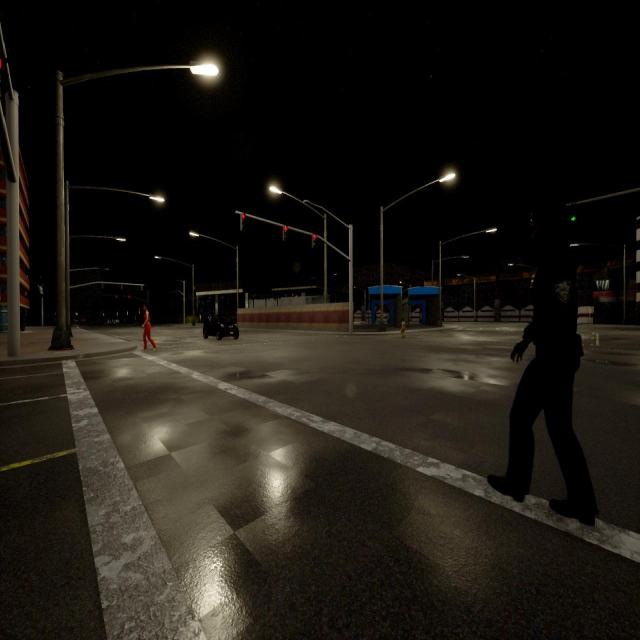Pedestrian: (487, 210, 597, 526), (142, 302, 156, 352), (400, 318, 406, 337)
Traffic_Signs: (588, 308, 592, 313)
Vehicle: (204, 313, 238, 340)
traffic_light: (240, 214, 246, 230), (571, 205, 577, 221), (283, 224, 288, 240), (312, 234, 316, 248), (0, 44, 2, 71), (101, 284, 104, 288), (141, 285, 143, 291), (121, 284, 123, 289), (115, 295, 118, 298), (128, 296, 130, 299)
